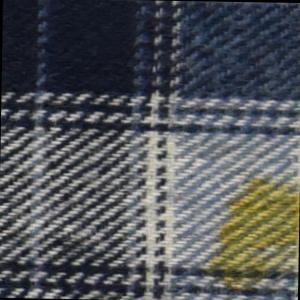Stain: (200, 176, 300, 300)
